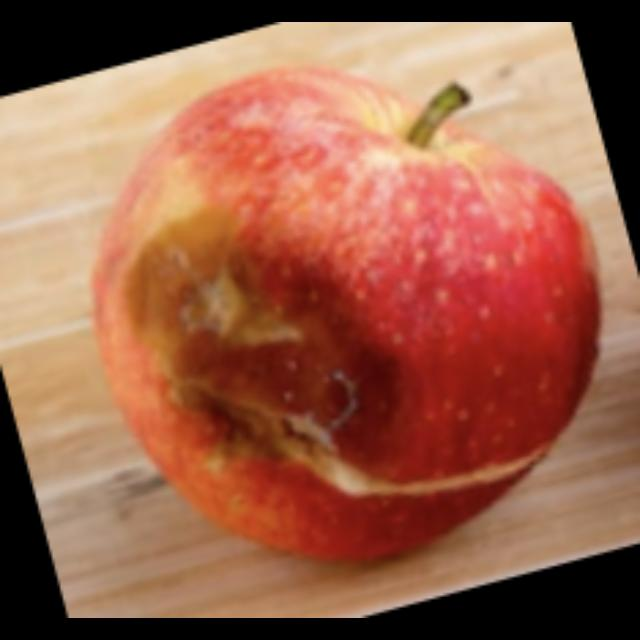Apel Segar: (128, 70, 627, 416)
Apel Tidak Segar: (112, 182, 558, 537)
